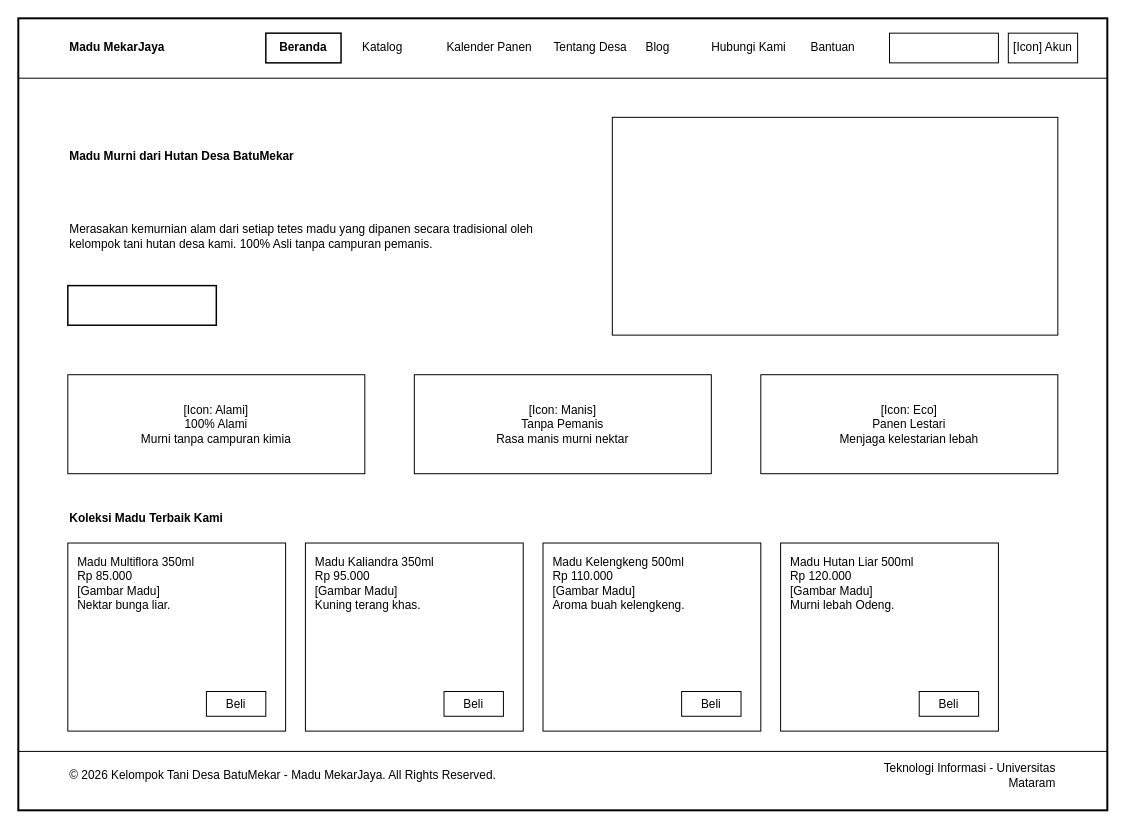
This 1125x828 diagram has some shape labels left out. Each missing label, with the centre of its shape:
[ Gambar Hero - Lebah & Hutan Desa BatuMekar ]: point 834,225
[Icon] Keranjang (2): point 943,47
Belanja Sekarang: point 142,305
